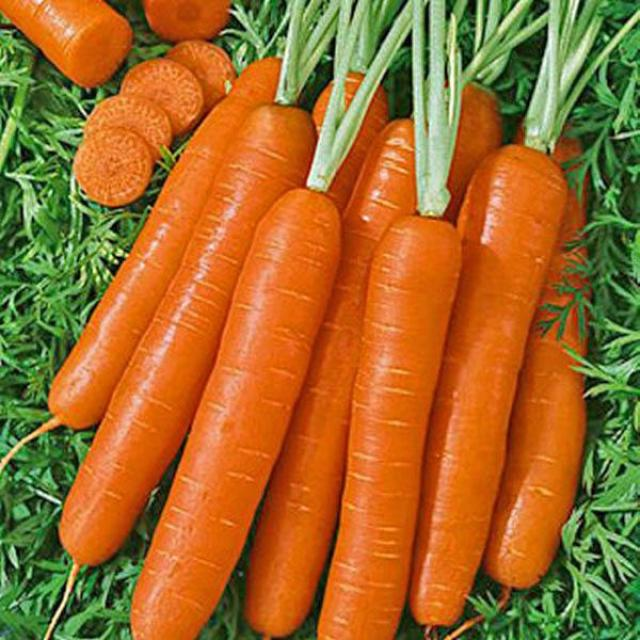Fresh_Carrot: (116, 0, 448, 640), (416, 2, 638, 640), (321, 3, 463, 640)
